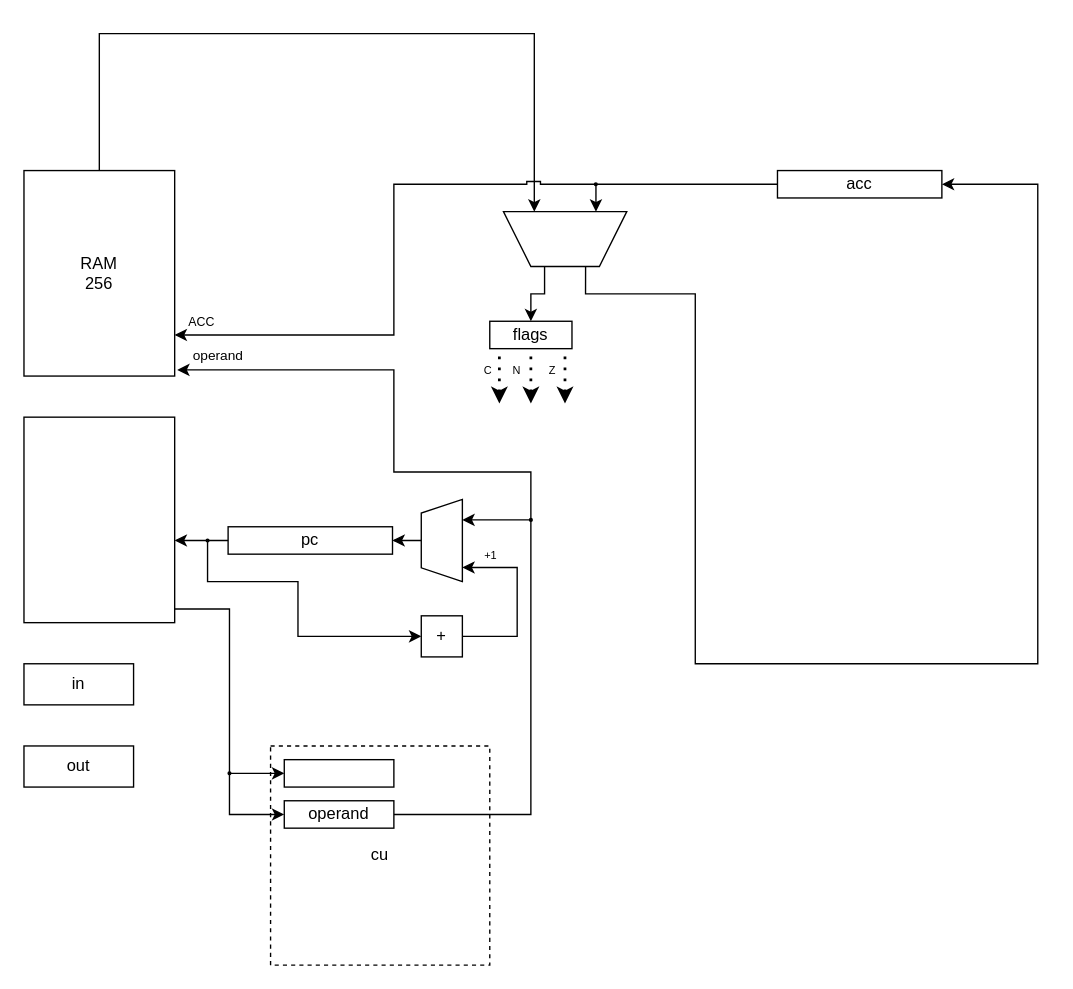
Image size: 1073x989. Some labels were removed from this diagram. Each missing label, with the centre of its shape:
"ALU" belongs at point 564,238.
"ir" belongs at point 338,772.
"mux" belongs at point 441,540.
"ROM 256" belongs at point 99,519.
